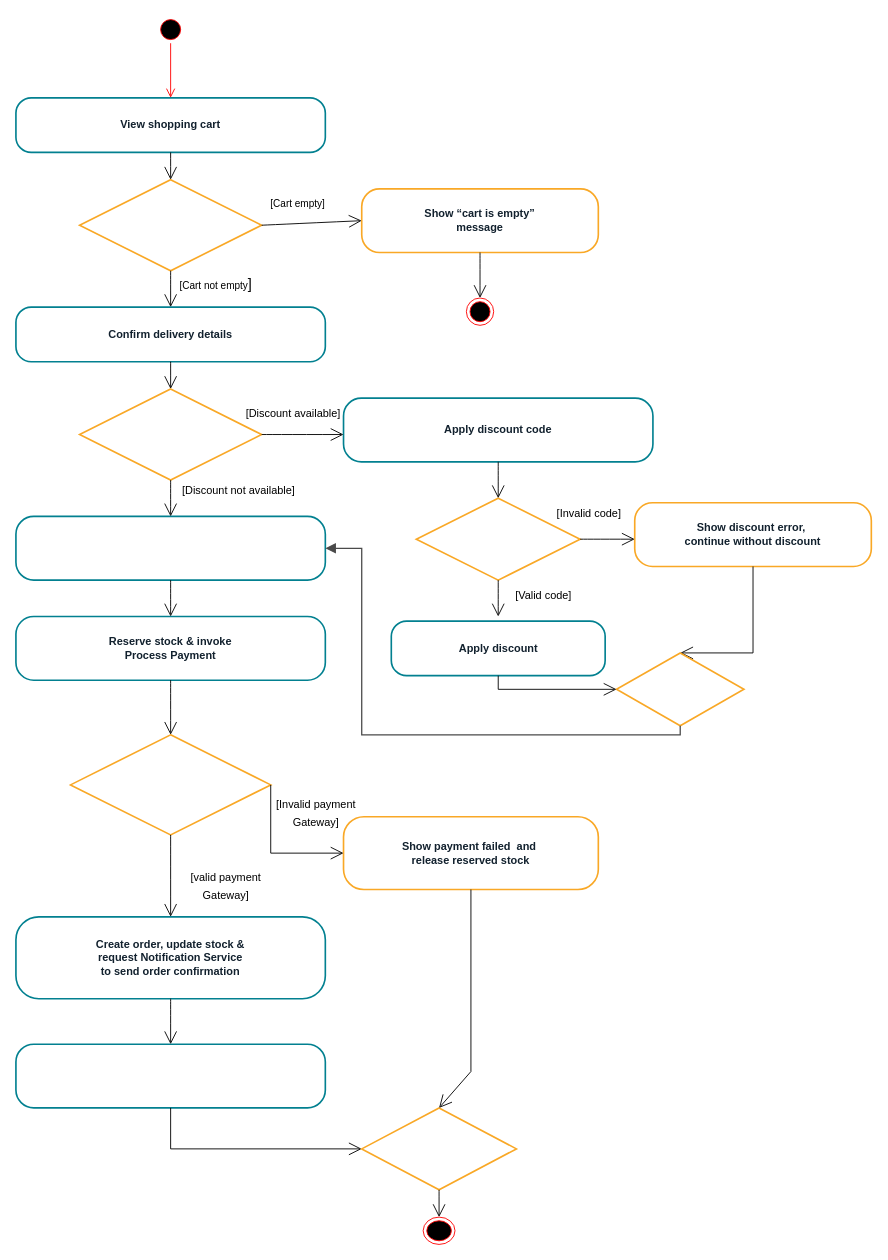
This 888x1260 diagram has some shape labels left out. The shapes that lost their labels are listed below. From the top down, each one's centre as x and y in pixels, then its label:
At (x=170, y=547): "Select payment method & submit payment".
At (x=170, y=1075): "Display order confirmation".
